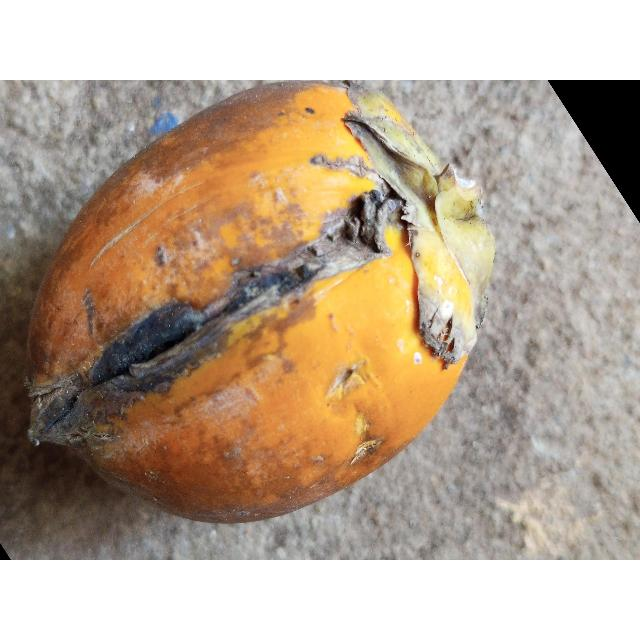damaged: (25, 83, 498, 527)
